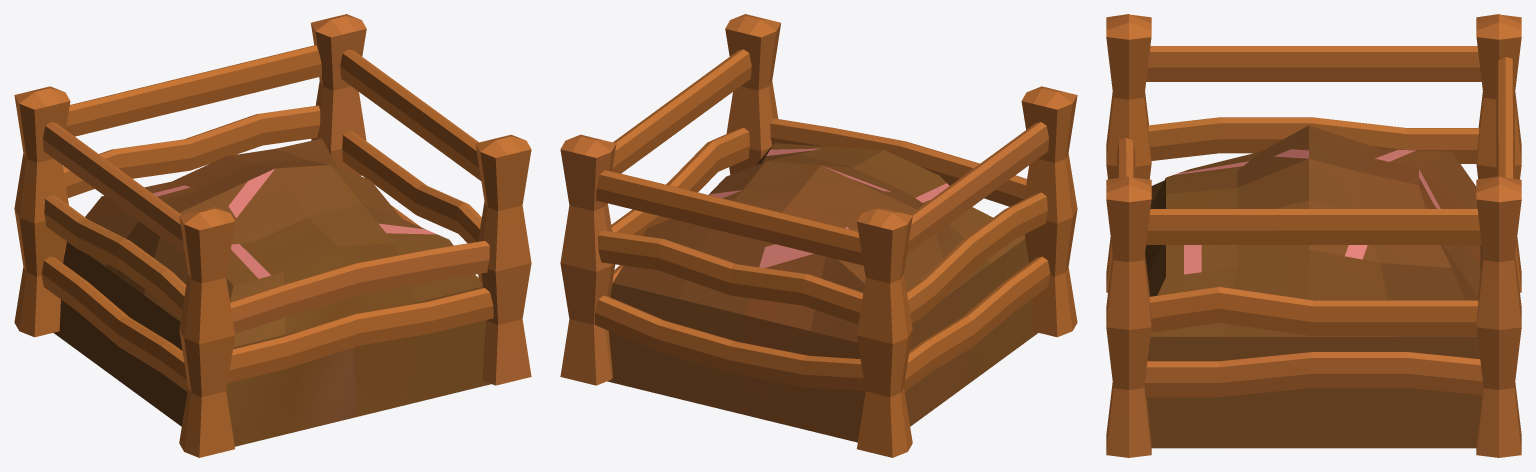
File: SM_Farm_Building_Minhocario.fbx
3 views of the same model, side by side, from view 1: azimuth 30°, elevation 25°; view 2: azimuth 150°, elevation 25°; view 3: azimuth 270°, elevation 25° (orthographic). The views are drawn at different scales.
Parts seen in each view (by area): view 1: Cube.078; view 2: Cube.078; view 3: Cube.078.
Boxes of the visible parts, x1=… form: Cube.078: x1=14, y1=14, x2=531, y2=457; Cube.078: x1=560, y1=14, x2=1077, y2=457; Cube.078: x1=1106, y1=14, x2=1521, y2=457.
Bounding box in the file's own units: 201 × 135 × 188.
Materials: 1 (1 with a texture image).
